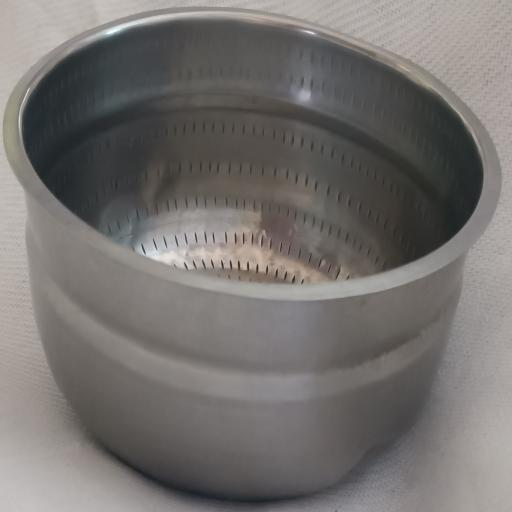vessel: (4, 9, 500, 499)
